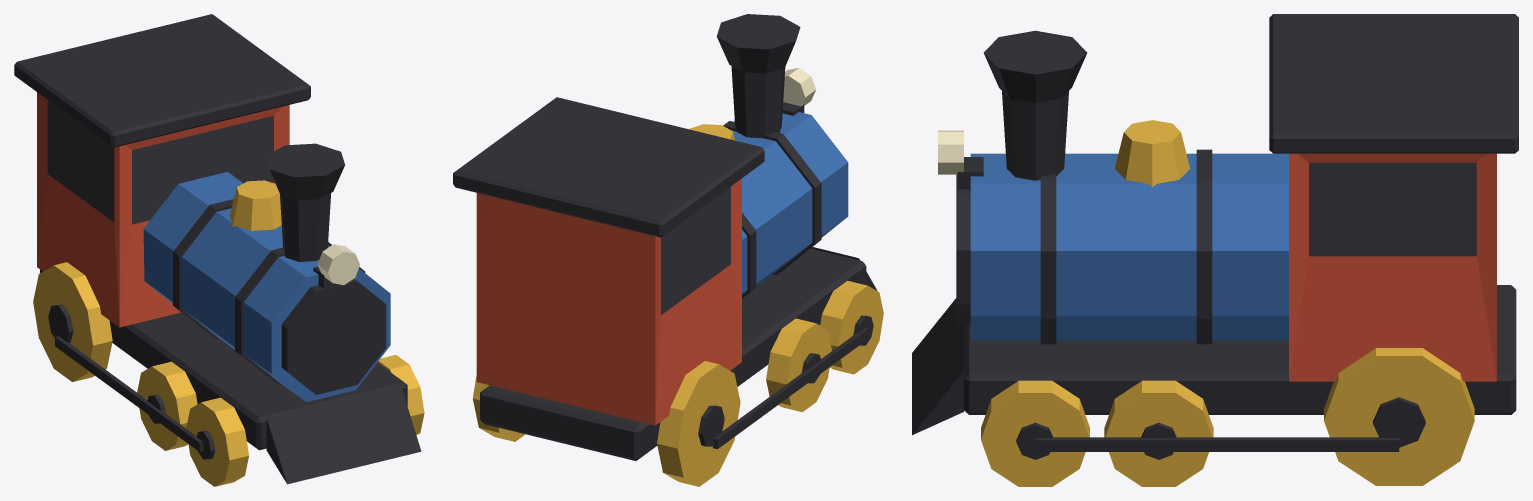
File: train.glb
The picture shows the model from 3 angles, left to right: view 1: azimuth 30°, elevation 25°; view 2: azimuth 150°, elevation 25°; view 3: azimuth 270°, elevation 25°; orthographic projection. The views are drawn at different scales.
Parts seen in each view (by area): view 1: Train_Cab, Train_Roof, Train_Boiler, Train_Chassis, Train_Cowcatcher, Train_BoilerCap, Train_Wheel3_L, Train_Wheel1_L, Train_ChimneyTop, Train_Wheel2_L, Train_Chimney, Train_Dome (+6 smaller); view 2: Train_Cab, Train_Roof, Train_Chassis, Train_Boiler, Train_Wheel3_L, Train_ChimneyTop, Train_Wheel2_L, Train_Wheel1_L, Train_Chimney, Train_Rod_L, Train_Band1, Train_Headlamp (+3 smaller); view 3: Train_Boiler, Train_Cab, Train_Roof, Train_Chassis, Train_Wheel3_R, Train_Wheel1_R, Train_Wheel2_R, Train_ChimneyTop, Train_Rod_R, Train_Cowcatcher, Train_Chimney, Train_Dome (+6 smaller).
Boxes of the visible parts, x1=… form: Train_Cab: x1=37, y1=92, x2=289, y2=327; Train_Roof: x1=14, y1=14, x2=310, y2=147; Train_Boiler: x1=143, y1=172, x2=390, y2=402; Train_Chassis: x1=40, y1=269, x2=407, y2=450; Train_Cowcatcher: x1=266, y1=385, x2=421, y2=484; Train_BoilerCap: x1=281, y1=279, x2=386, y2=394; Train_Wheel3_L: x1=33, y1=262, x2=112, y2=381; Train_Wheel1_L: x1=186, y1=397, x2=248, y2=486; Train_ChimneyTop: x1=265, y1=143, x2=344, y2=200; Train_Wheel2_L: x1=137, y1=361, x2=197, y2=450; Train_Chimney: x1=280, y1=193, x2=330, y2=261; Train_Dome: x1=230, y1=180, x2=281, y2=230; Train_Cab: x1=476, y1=178, x2=741, y2=425; Train_Roof: x1=453, y1=97, x2=764, y2=237; Train_Chassis: x1=480, y1=248, x2=866, y2=460; Train_Boiler: x1=732, y1=112, x2=848, y2=294; Train_Wheel3_L: x1=657, y1=361, x2=740, y2=486; Train_ChimneyTop: x1=716, y1=14, x2=800, y2=73; Train_Wheel2_L: x1=766, y1=318, x2=832, y2=412; Train_Wheel1_L: x1=820, y1=280, x2=883, y2=374; Train_Chimney: x1=731, y1=66, x2=785, y2=138; Train_Rod_L: x1=713, y1=327, x2=869, y2=449; Train_Band1: x1=723, y1=121, x2=821, y2=274; Train_Headlamp: x1=783, y1=68, x2=816, y2=106; Train_Boiler: x1=970, y1=153, x2=1288, y2=340; Train_Cab: x1=1289, y1=153, x2=1496, y2=381; Train_Roof: x1=1269, y1=14, x2=1518, y2=153; Train_Chassis: x1=964, y1=285, x2=1516, y2=414; Train_Wheel3_R: x1=1324, y1=348, x2=1474, y2=485; Train_Wheel1_R: x1=981, y1=380, x2=1089, y2=486; Train_Wheel2_R: x1=1104, y1=380, x2=1213, y2=486; Train_ChimneyTop: x1=983, y1=30, x2=1087, y2=103; Train_Rod_R: x1=1035, y1=437, x2=1399, y2=451; Train_Cowcatcher: x1=912, y1=298, x2=963, y2=435; Train_Chimney: x1=1002, y1=91, x2=1068, y2=180; Train_Dome: x1=1114, y1=120, x2=1189, y2=186.
Size of the model in its own units: 0.236 by 0.3179 by 0.467.
